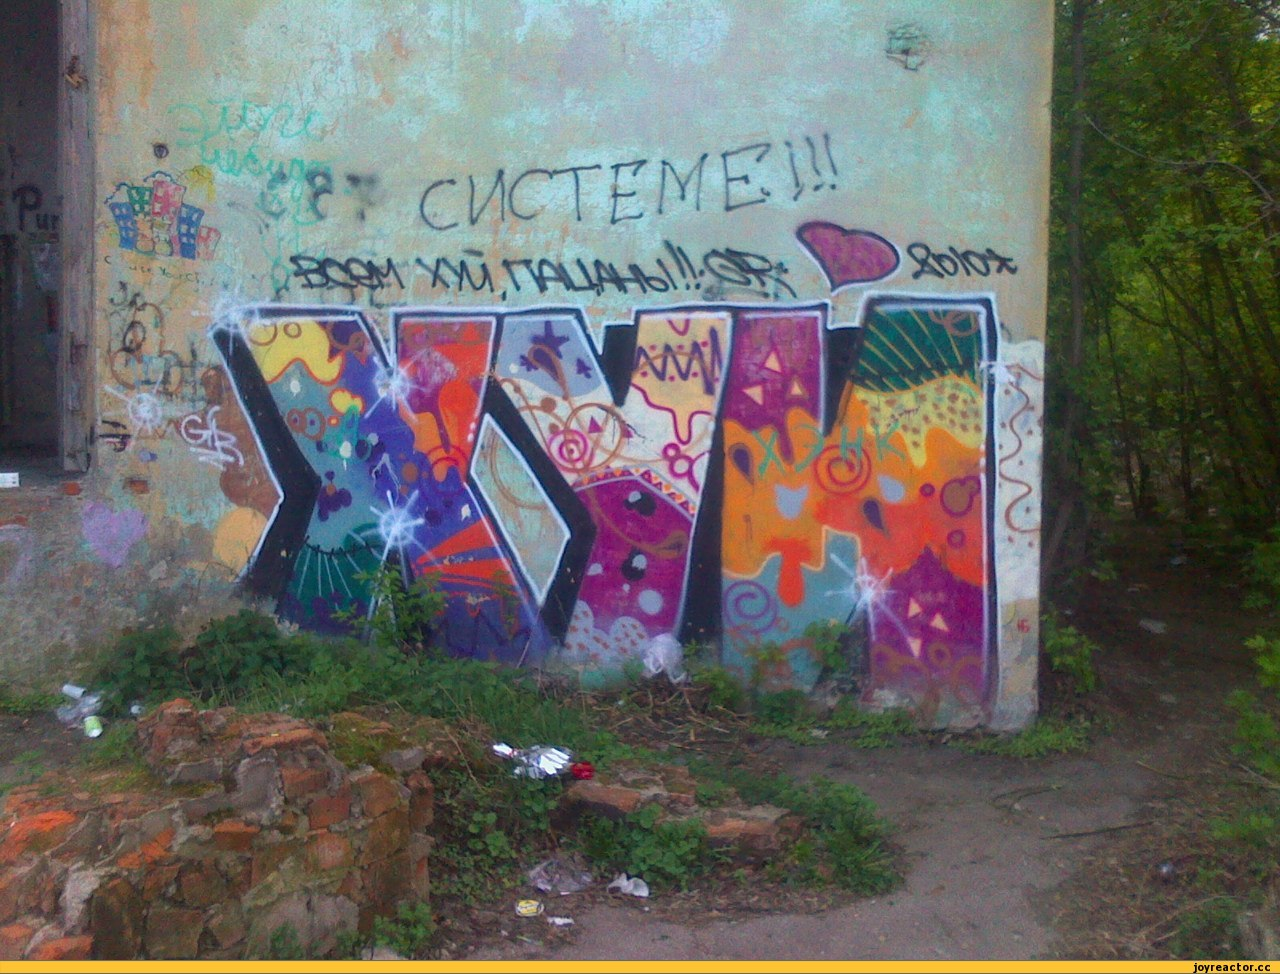graphite: (211, 298, 1007, 706), (390, 130, 845, 222), (284, 230, 796, 305), (89, 286, 238, 496), (85, 163, 249, 286), (255, 151, 388, 230), (795, 209, 904, 296), (912, 229, 1028, 292)
